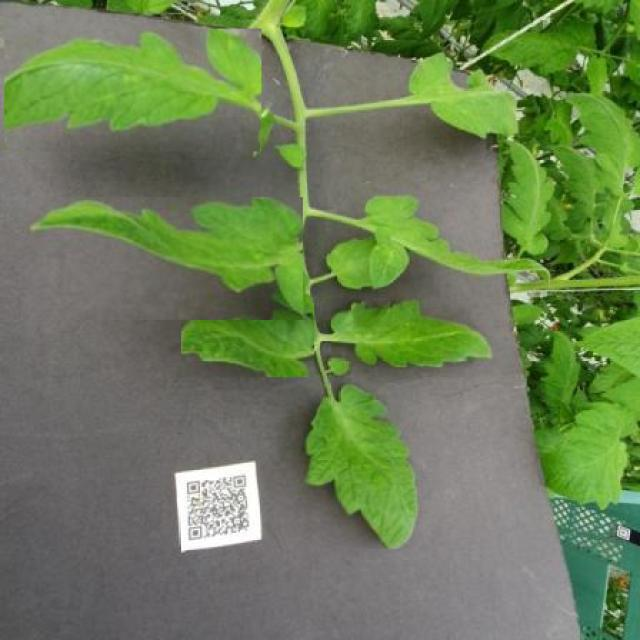Healthy: (28, 198, 303, 320), (5, 29, 262, 152), (304, 383, 419, 548), (330, 299, 493, 368), (181, 302, 315, 378)
